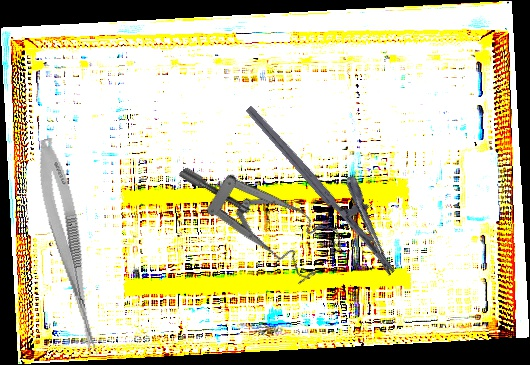Micro Scissor: (28, 136, 112, 359)
Needle Holder: (243, 84, 420, 278)
Speculum: (177, 117, 351, 306)
